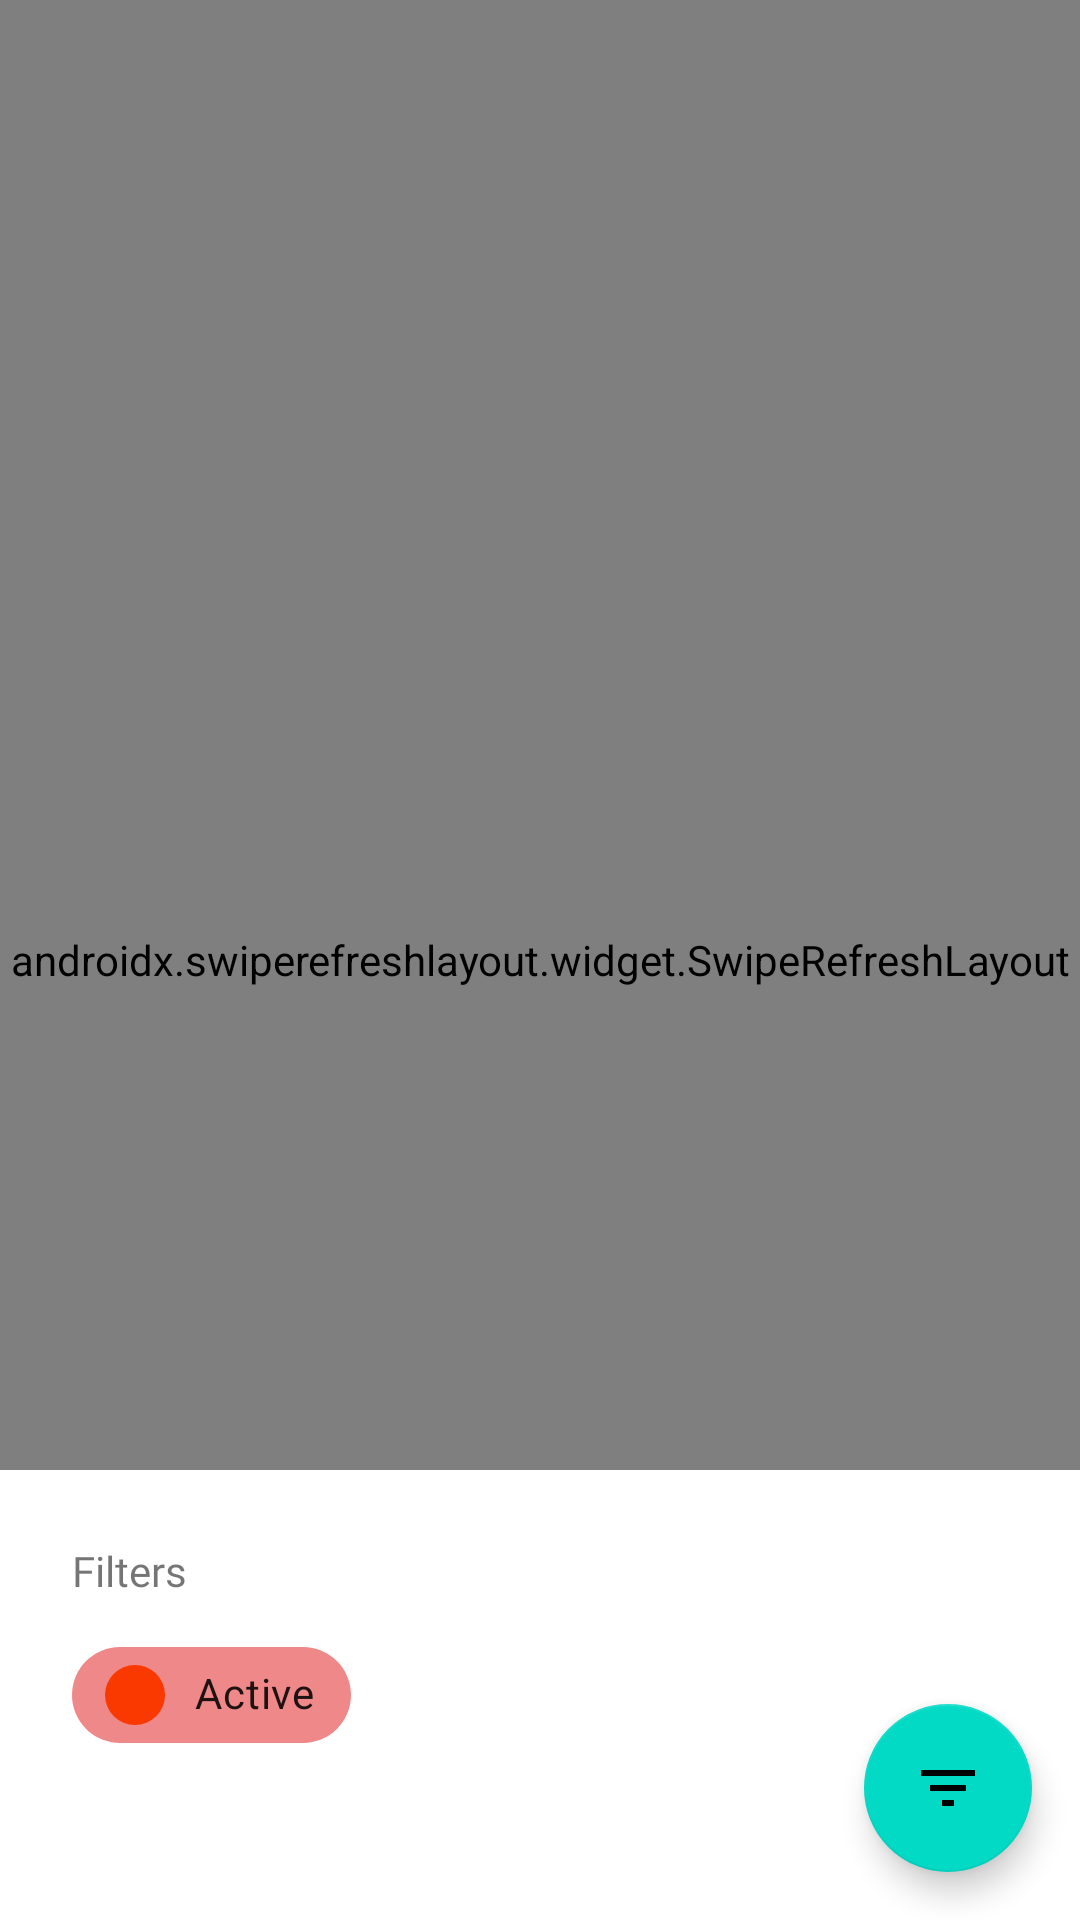

Named icons in this screenshot (1080 x 1920) and their bounding boxes, (x1, y1, x2, y2):
filter: (864, 1704, 1032, 1872)
